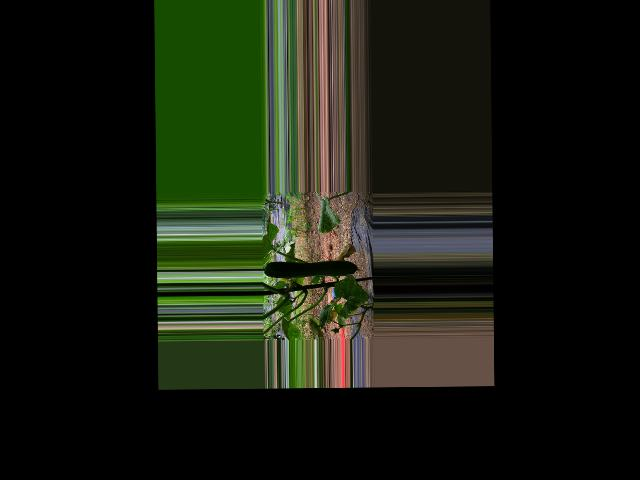cucumber: (264, 259, 360, 278)
